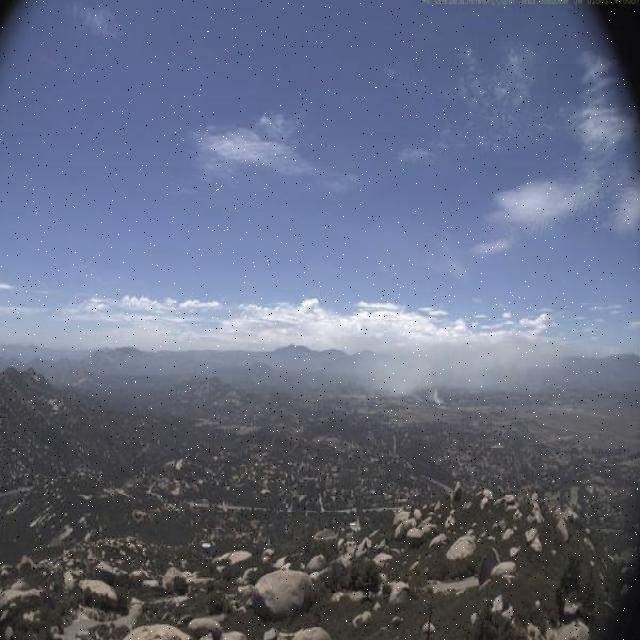smoke: (350, 318, 574, 412)
